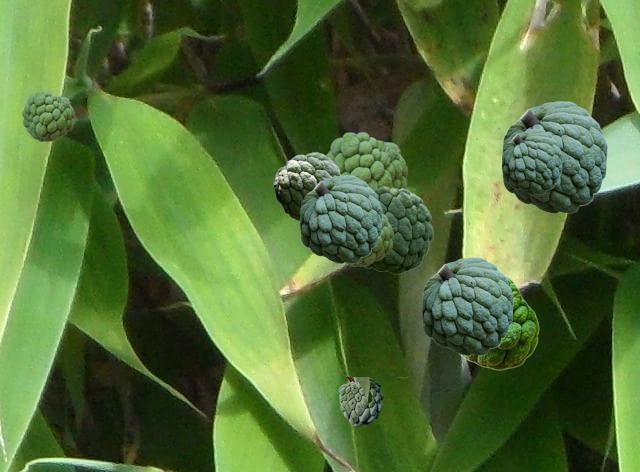atis: (502, 101, 606, 212), (422, 257, 512, 354), (459, 275, 538, 369), (300, 175, 381, 262), (363, 186, 432, 273), (273, 152, 340, 220), (326, 132, 406, 188), (502, 129, 561, 193), (338, 377, 406, 425), (22, 91, 73, 140), (345, 213, 392, 265)
